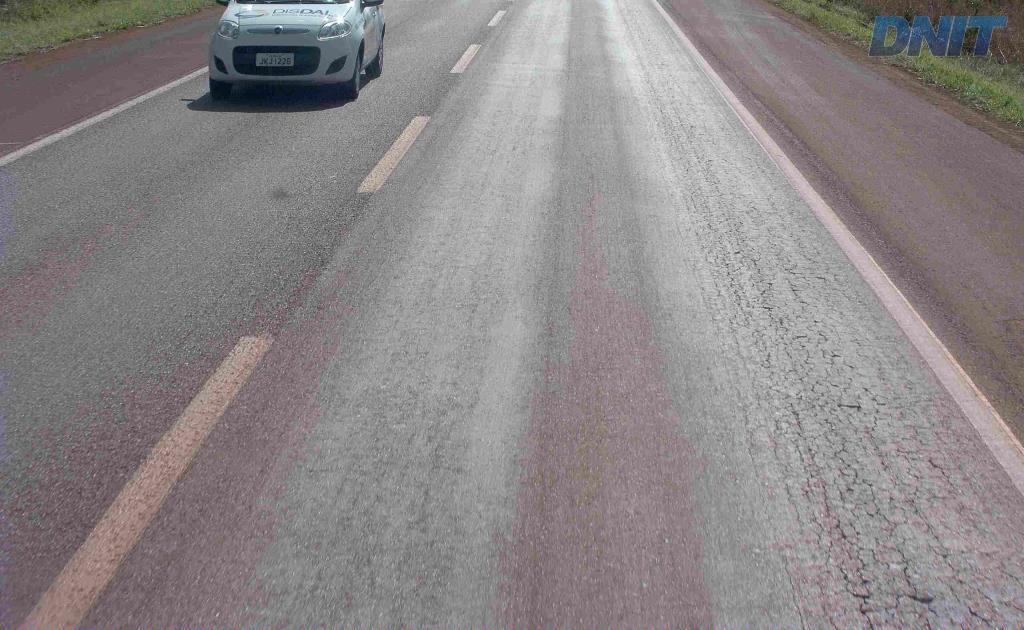crack: (882, 543, 920, 592)
